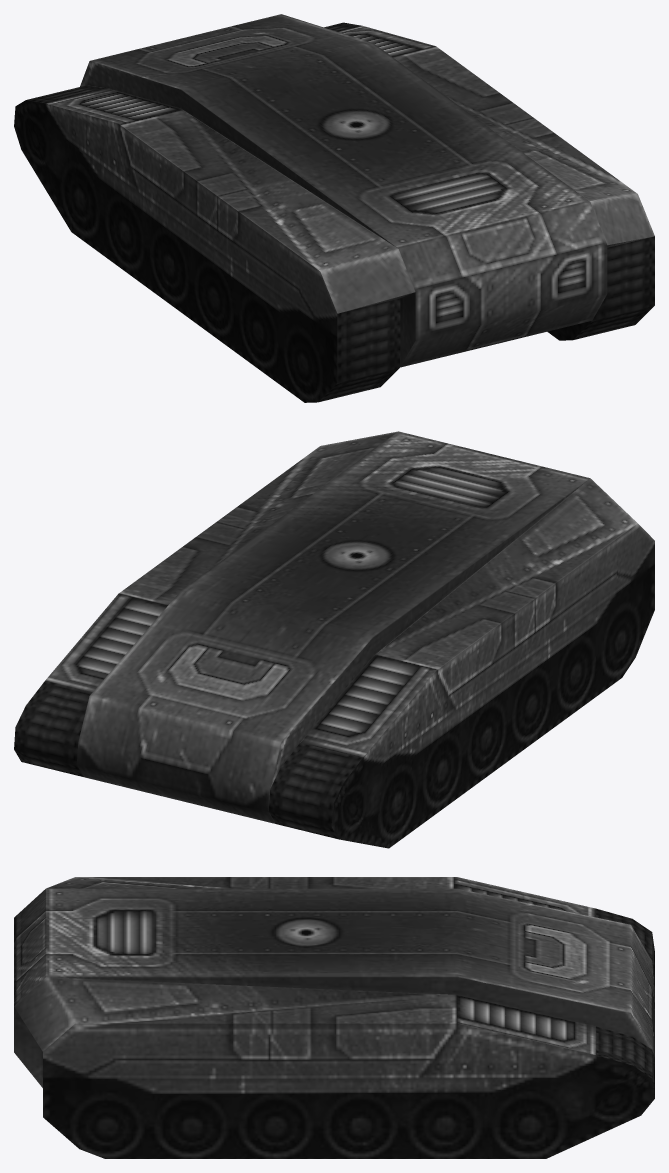
The model's file is hornet.glb.
3 renders of one model, top to bottom at view 1: azimuth 30°, elevation 25°; view 2: azimuth 150°, elevation 25°; view 3: azimuth 270°, elevation 25°, orthographic. The views are drawn at different scales.
Parts seen in each view (by area): view 1: hull; view 2: hull; view 3: hull.
Part boxes in pixels (x1,y1,x2,y2): hull: [14, 14, 654, 402]; hull: [14, 431, 654, 848]; hull: [14, 877, 654, 1158].
Bounding box in the file's own units: 277 × 135 × 512.
Materials: 1 (1 with a texture image).
